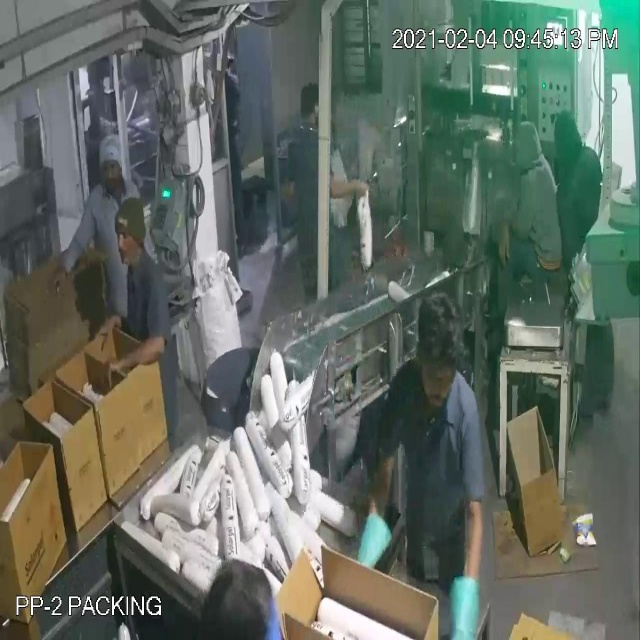Sin_guantes: (101, 331, 173, 388), (85, 290, 127, 348), (323, 164, 372, 207)
